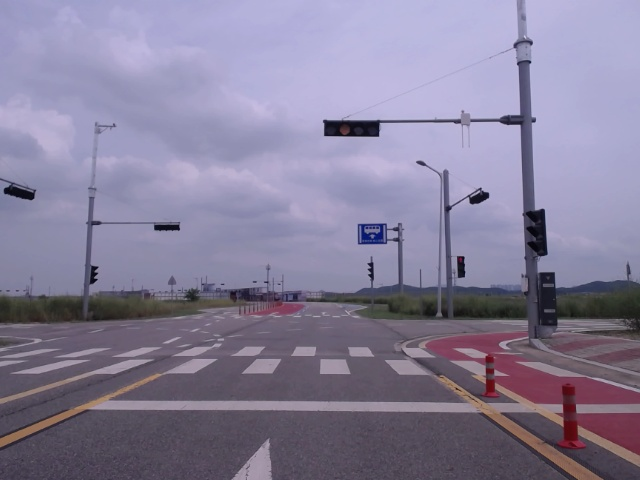orange_4: (322, 120, 380, 137)
